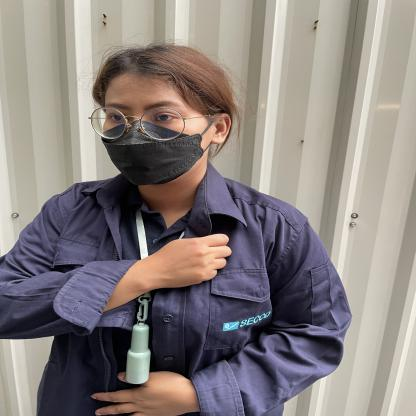Sadness: (96, 207, 259, 309)
